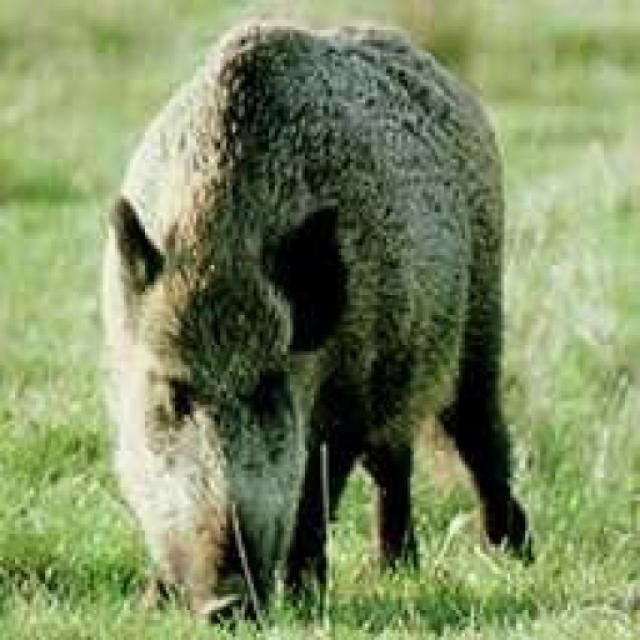pig: (99, 10, 580, 638)
